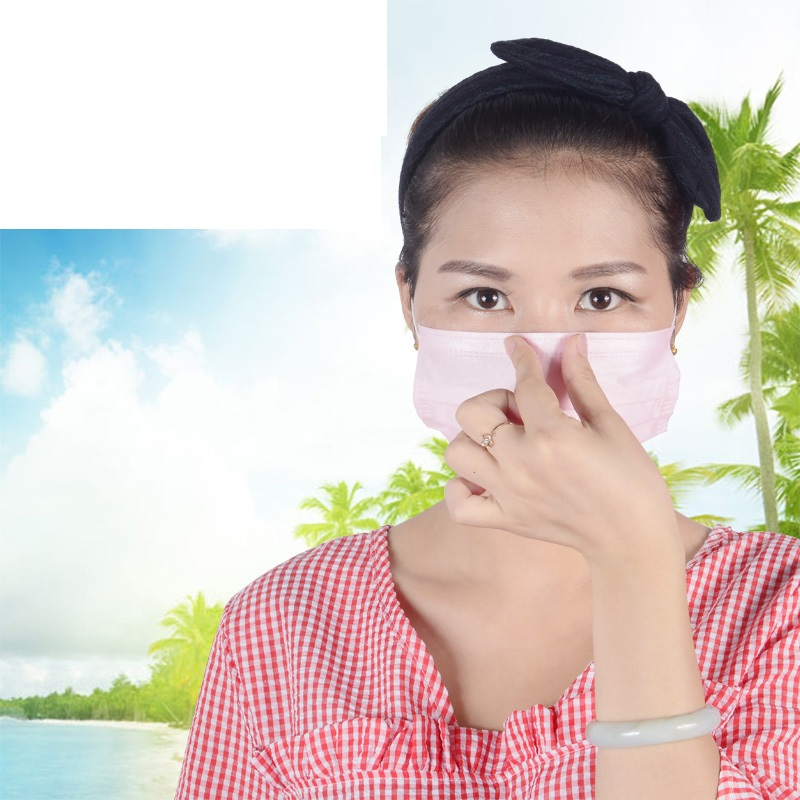face_mask: (416, 148, 670, 505)
